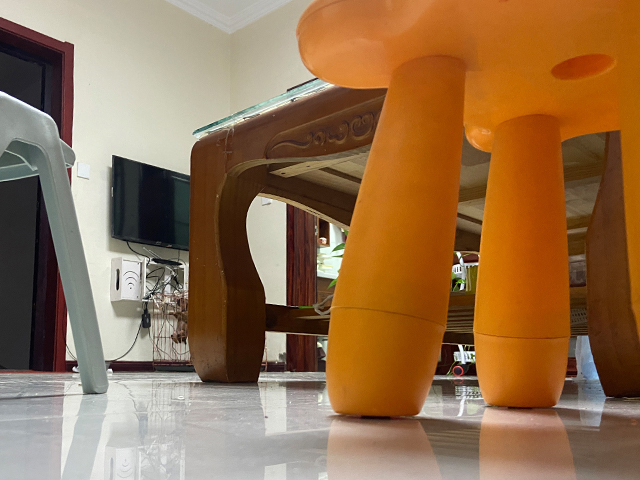stool: (294, 1, 640, 419), (1, 90, 109, 394)
table: (185, 78, 374, 388)
